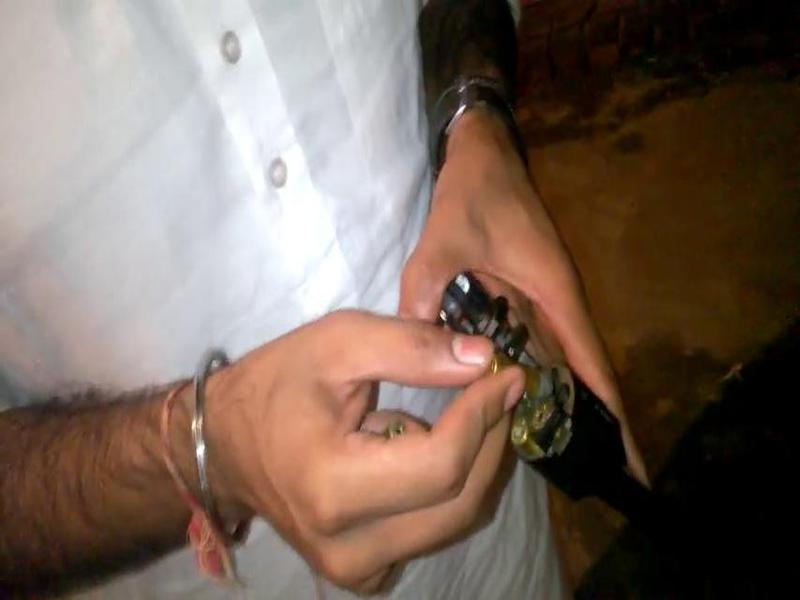Revolver: (417, 244, 724, 589)
